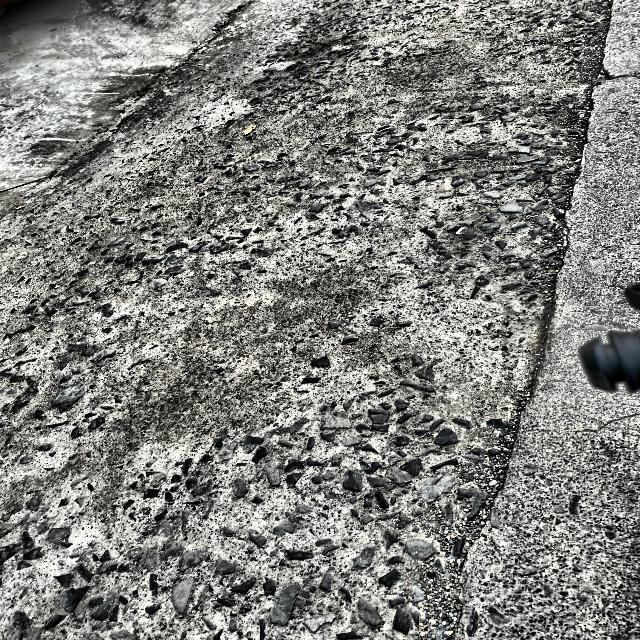major_scaling: (0, 0, 586, 640)
